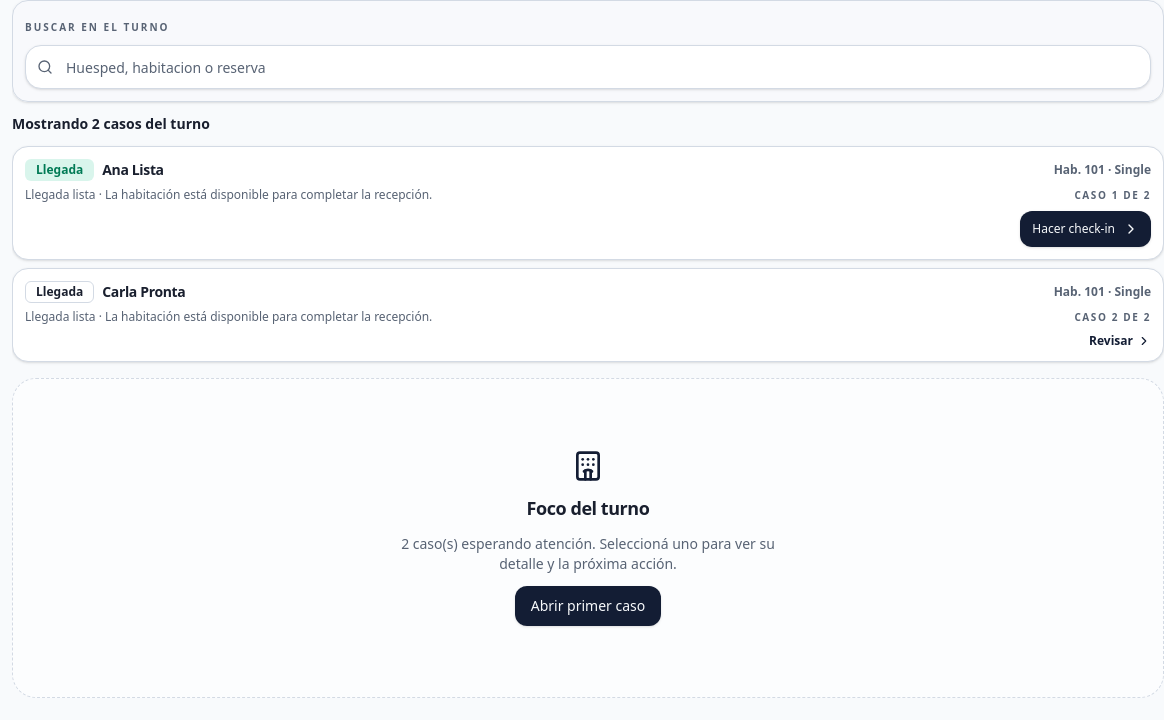
ReceptionShiftView › filters the queue by search without removing the source cases
In the search field labelled "Buscar en el turno": point(588, 67) x1=25 y1=45 x2=1151 y2=89, type "Carla"
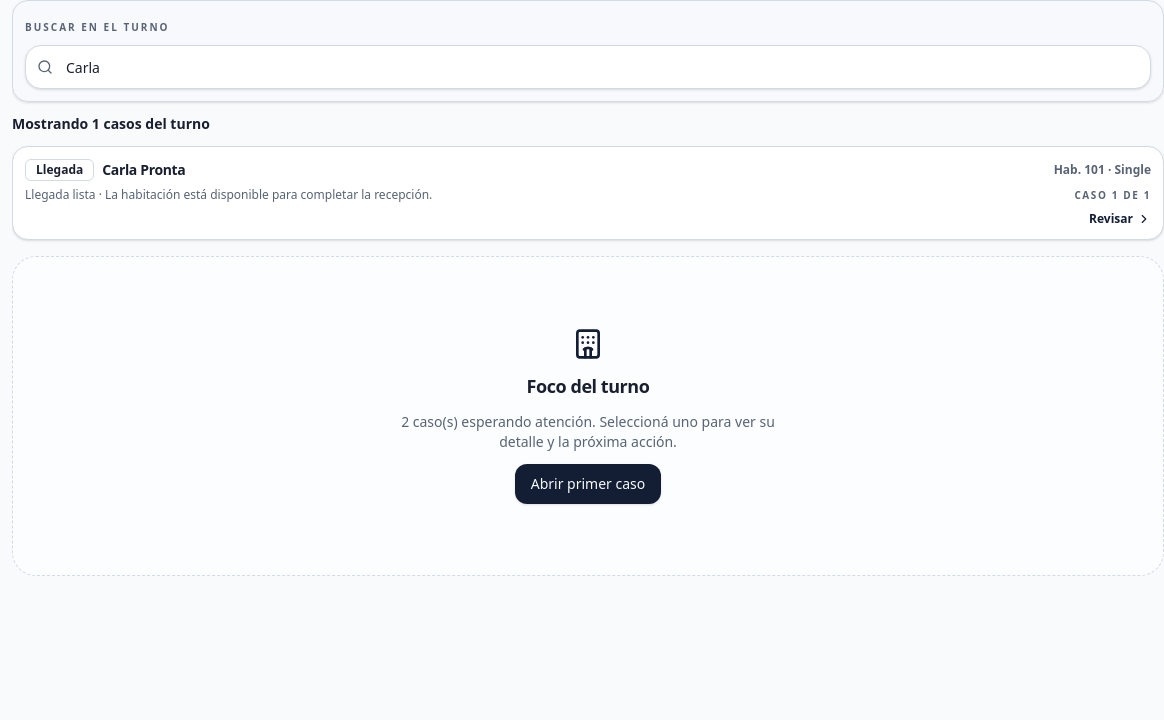
expect the option "Carla Pronta" is shown: met, box x1=12 y1=146 x2=1163 y2=240
expect the option "Ana Lista" is gone: met
expect the text "Mostrando 1 casos del turno" is shown: met, box x1=12 y1=114 x2=210 y2=133
